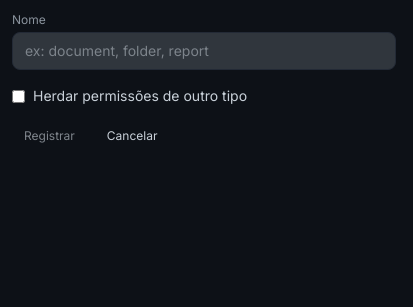
Test: CreateResourceTypeForm › shows parent selector and mode input when toggle is enabled
The width and height of the screenshot is (413, 307).
Click the checkbox with test id "toggle-inheritance".
click(18, 96)  # box [12,90,25,102]
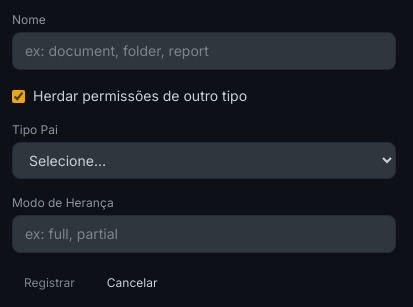
Expected: the dropdown with test id "select-parent-type" is shown, [12,142,396,179]
Expected: the field with test id "input-inheritance-mode" is shown, [12,215,396,253]
